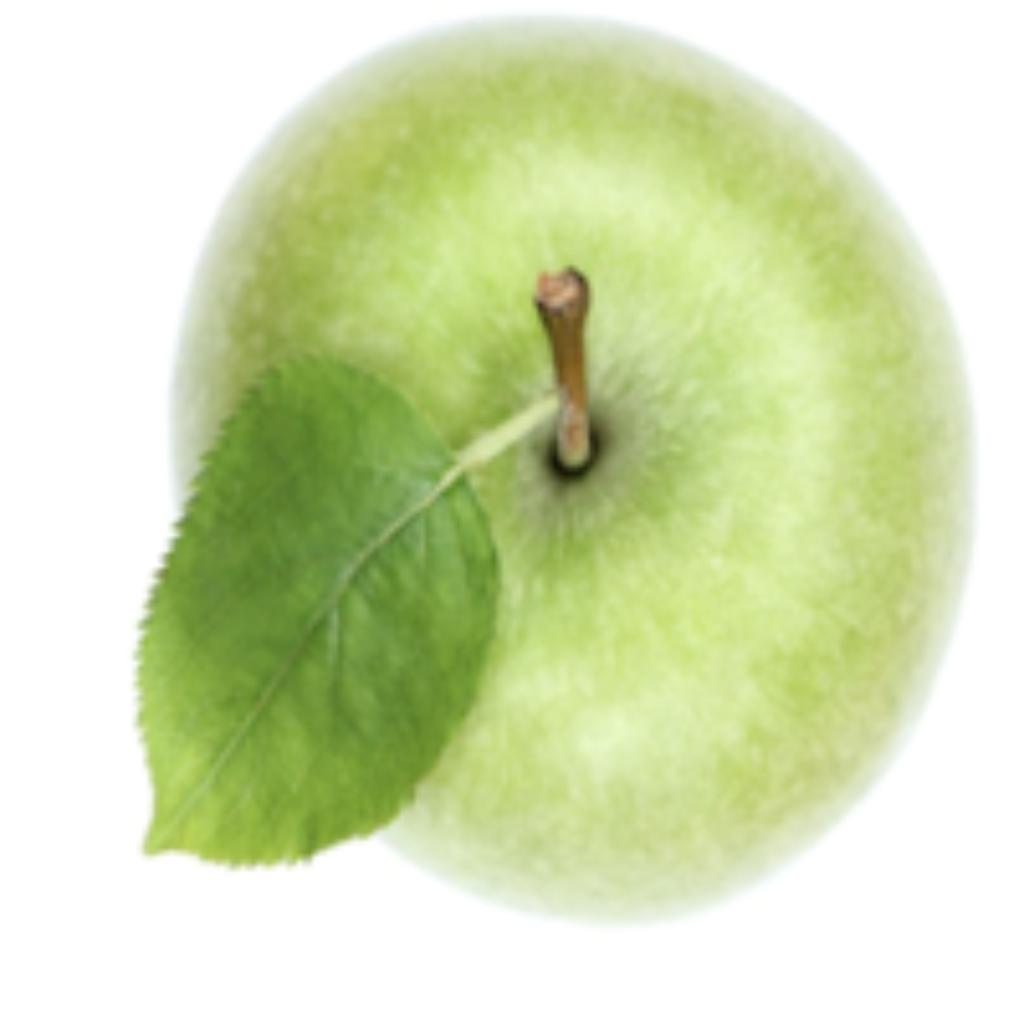apple: (123, 5, 983, 932)
